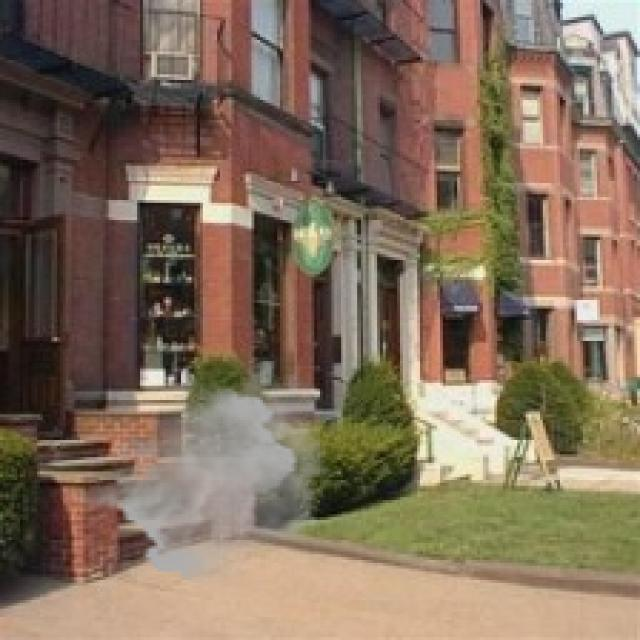smoke: (71, 354, 332, 586)
